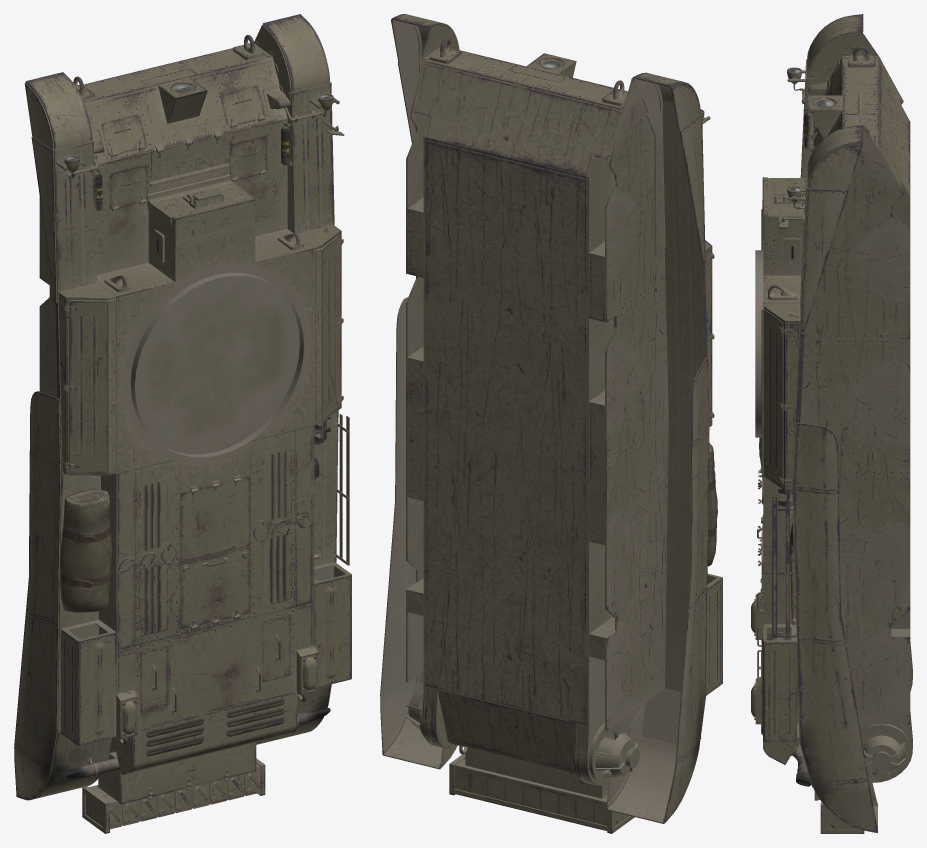
File: Hull.glb
3 views of the same model, side by side, from view 1: azimuth 30°, elevation 25°; view 2: azimuth 150°, elevation 25°; view 3: azimuth 270°, elevation 25° (orthographic). The views are drawn at different scales.
Parts seen in each view (by area): view 1: set_0_group_0; view 2: set_0_group_0; view 3: set_0_group_0.
Boxes of the visible parts, x1,y1,x2,y2 form: set_0_group_0: (14,14,351,833); set_0_group_0: (380,14,722,833); set_0_group_0: (751,14,912,833).
Size of the model in its own units: 2.57 by 6.32 by 1.29.
Materials: 1 (1 with a texture image).
